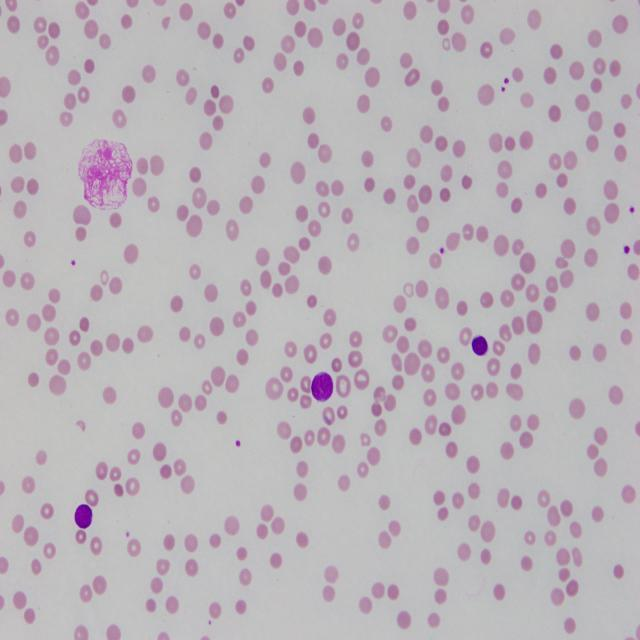cell: (311, 372, 334, 402), (75, 503, 92, 528), (471, 335, 488, 355)
